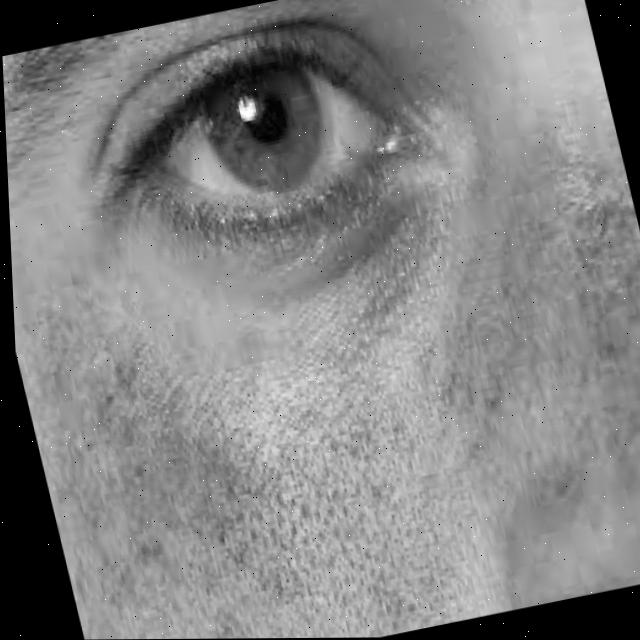Rosacea: (7, 157, 472, 640), (395, 137, 640, 539)
